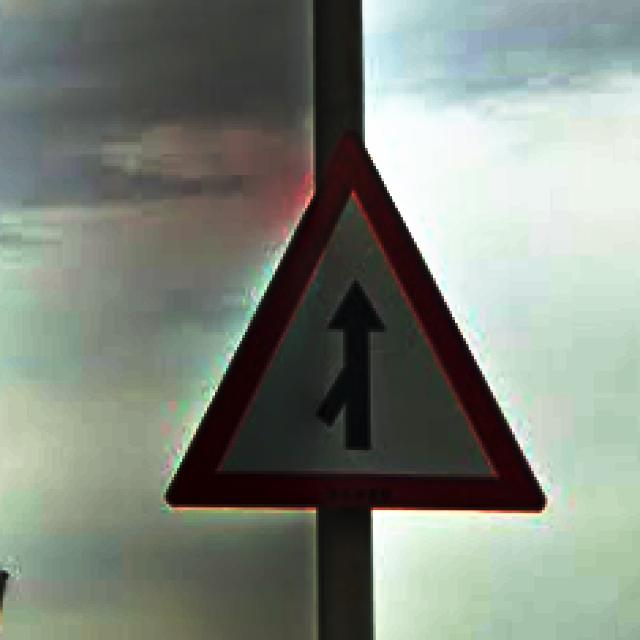leftmerge: (163, 124, 545, 513)
